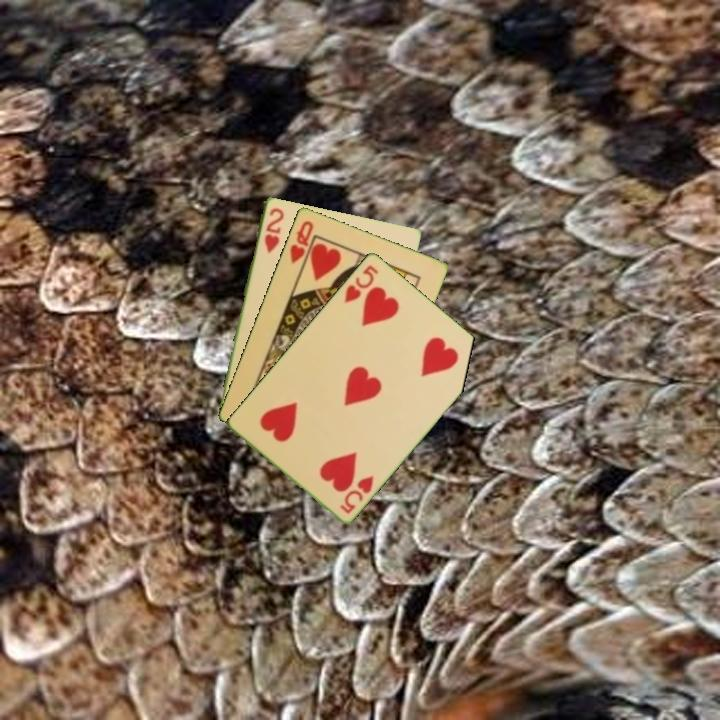2h: (261, 204, 287, 256)
5h: (336, 471, 377, 517), (341, 261, 381, 306)
Qh: (286, 217, 316, 266)
